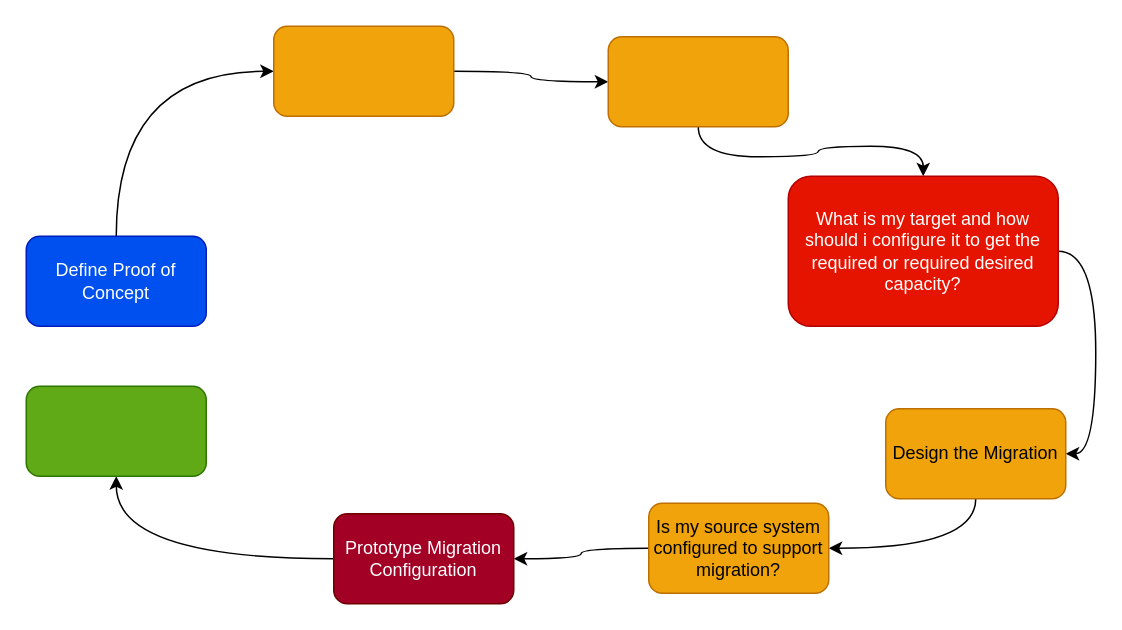
Some shapes in this 1122 by 630 pixel diagram are drawn without their labels. Each missing label, with the centre of its shape:
Are my Datatypes compatible?: the point at 697,81
Run the proof of concept: the point at 115,430
Which Object Do I need to Migrate?: the point at 363,70
